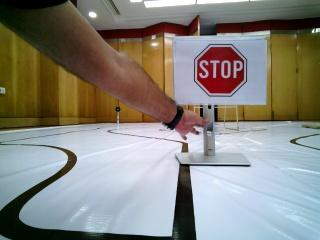stop: (178, 42, 262, 100)
